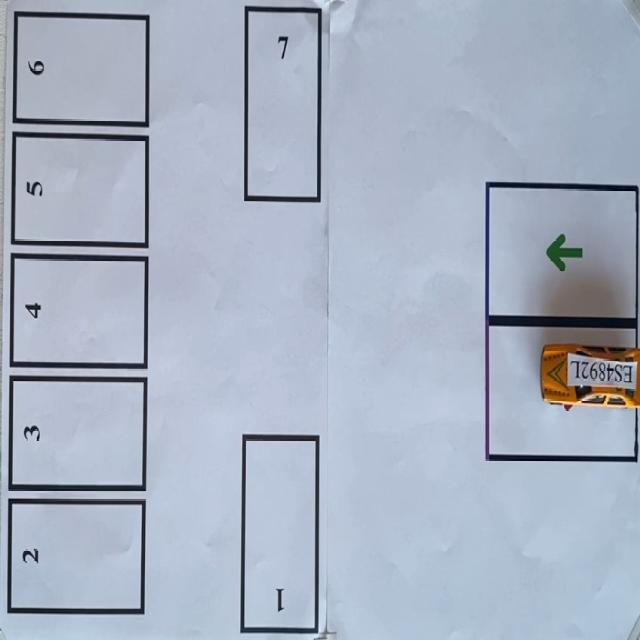car: (540, 344, 639, 408)
